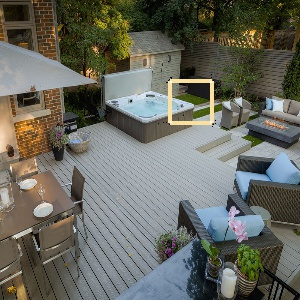square: (164, 75, 218, 130)
